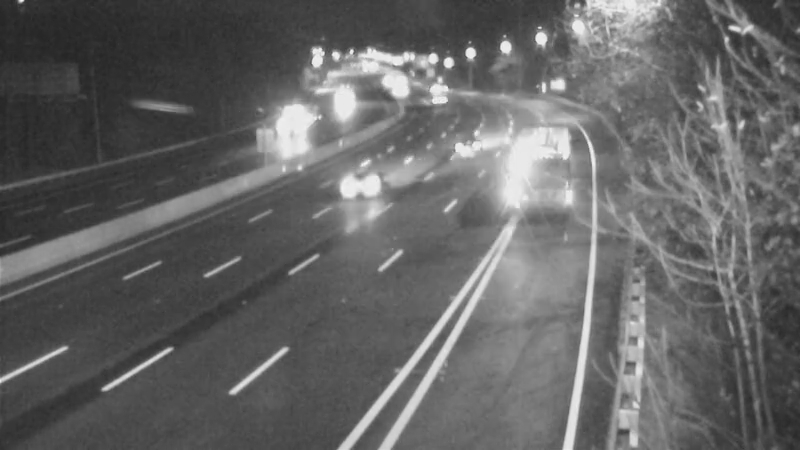vehicle: (494, 121, 574, 201), (422, 110, 502, 190), (316, 141, 396, 221), (377, 66, 427, 116), (411, 65, 461, 115), (274, 99, 324, 149), (318, 77, 368, 127)
